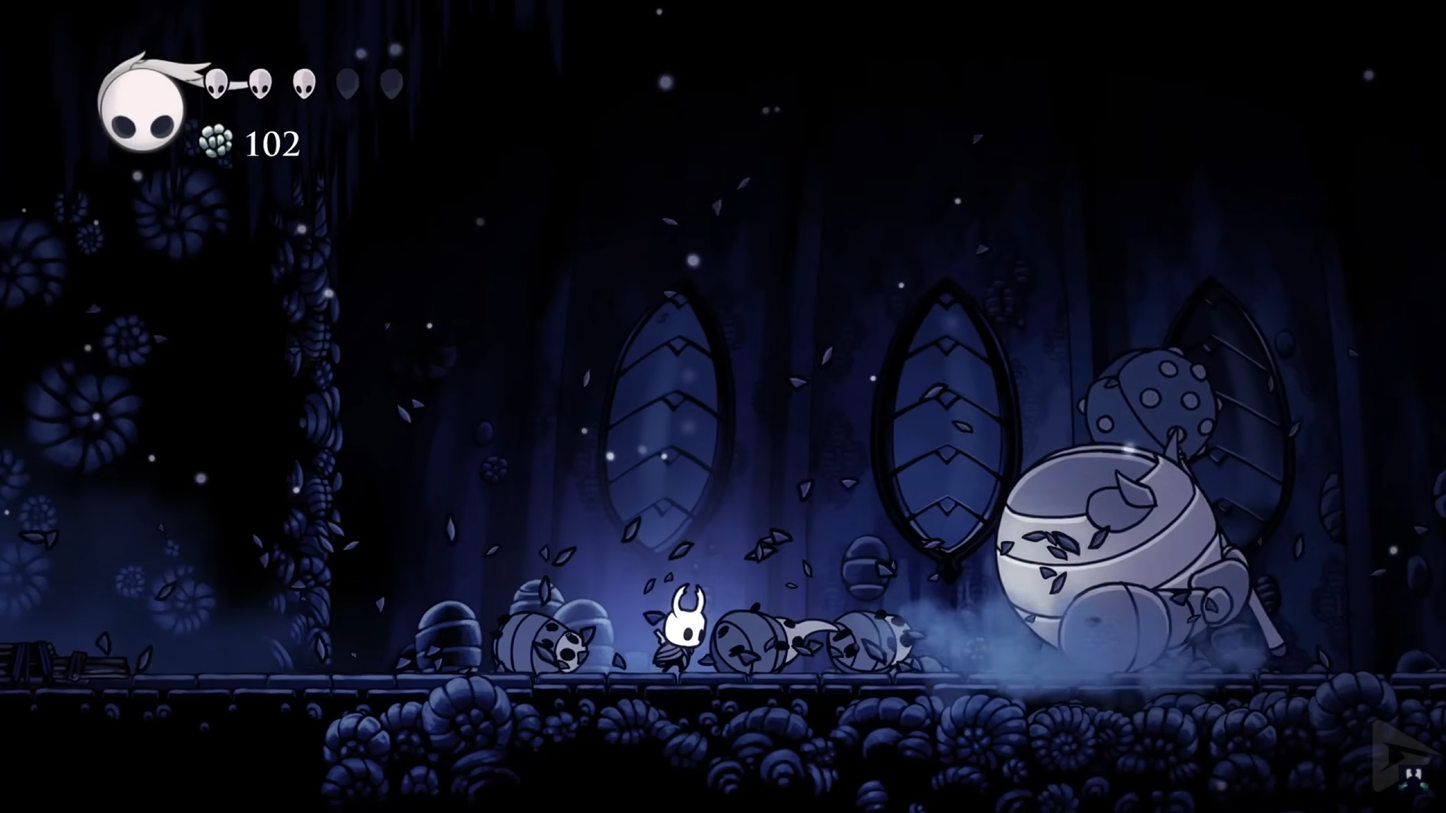HK: (651, 580, 714, 678)
